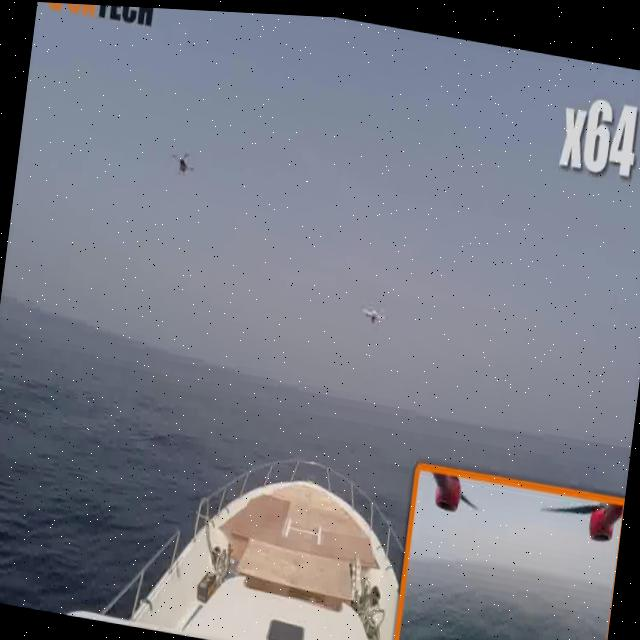drone: (124, 96, 247, 222)
